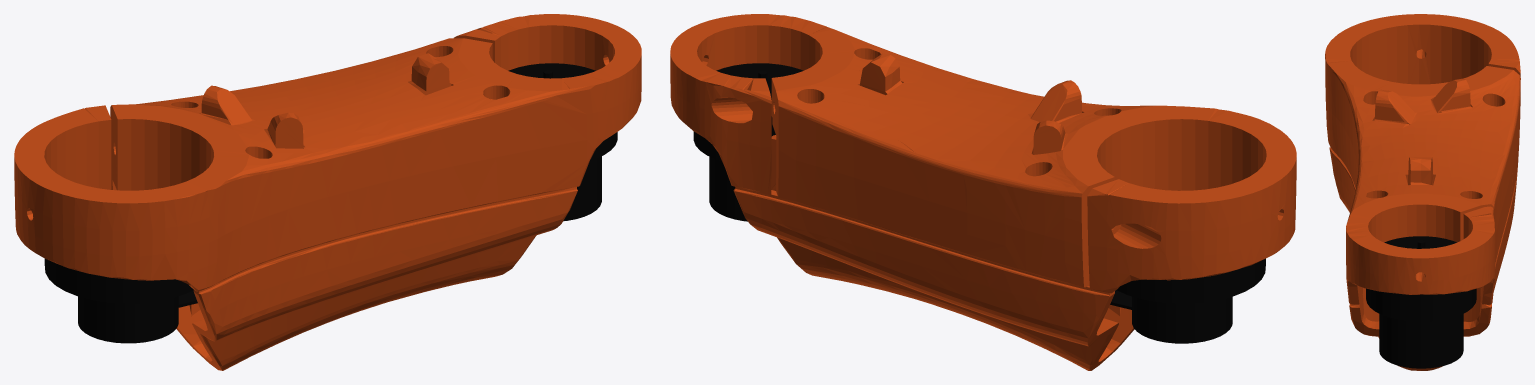
Rendered from arm_joint_2.dae.
The picture shows the model from 3 angles, left to right: view 1: azimuth 30°, elevation 25°; view 2: azimuth 150°, elevation 25°; view 3: azimuth 270°, elevation 25°; orthographic projection. The views are drawn at different scales.
Parts seen in each view (by area): view 1: arm_joint_2; view 2: arm_joint_2; view 3: arm_joint_2.
Boxes of the visible parts, <box> form: arm_joint_2: <box>14,14,641,370</box>; arm_joint_2: <box>670,14,1296,370</box>; arm_joint_2: <box>1325,14,1520,370</box>.
Size of the model in its own units: 0.22 by 0.0745 by 0.0899.
